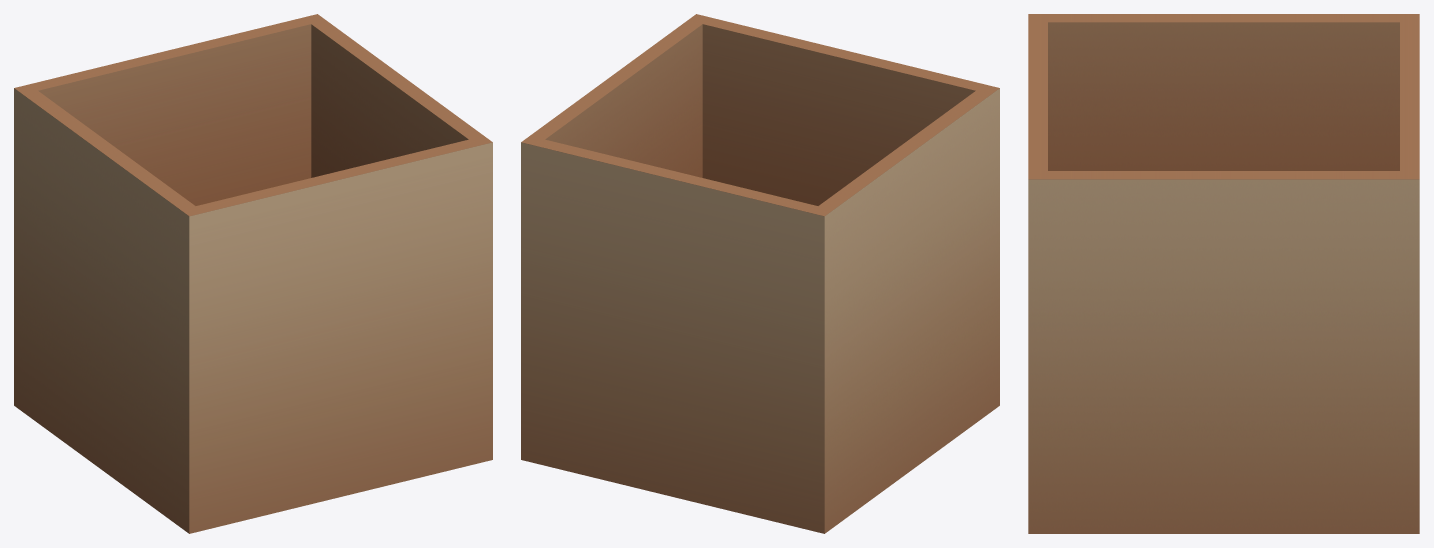
Rendered from Package_Box_Open.FBX.
The picture shows the model from 3 angles, left to right: view 1: azimuth 30°, elevation 25°; view 2: azimuth 150°, elevation 25°; view 3: azimuth 270°, elevation 25°; orthographic projection. The views are drawn at different scales.
Visible parts, largest first — view 1: Package_Box_Open; view 2: Package_Box_Open; view 3: Package_Box_Open.
Part boxes in pixels (box(x1,y1,x2,y2)): Package_Box_Open: box(14, 14, 492, 533); Package_Box_Open: box(521, 14, 999, 533); Package_Box_Open: box(1028, 14, 1419, 533).
Size of the model in its own units: 1 by 1 by 1.
1 material, 1 textured.
